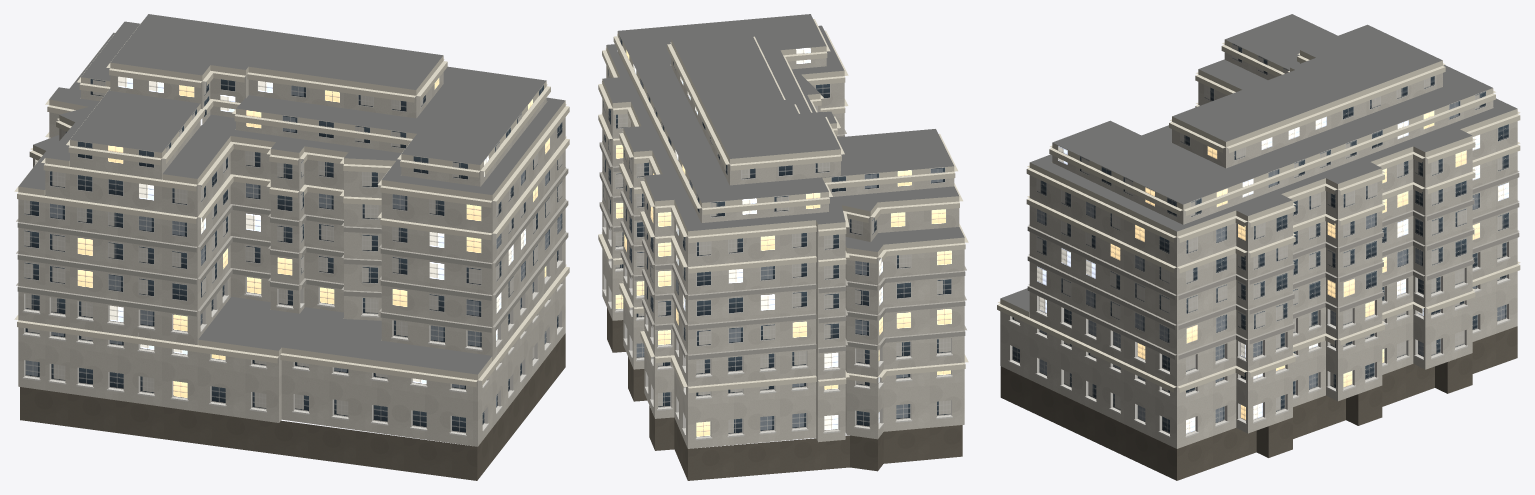
The model's file is z4L_thomas_slab.glb.
3 views of the same model, side by side, from view 1: azimuth 30°, elevation 25°; view 2: azimuth 150°, elevation 25°; view 3: azimuth 270°, elevation 25° (orthographic). The views are drawn at different scales.
Parts seen in each view (by area): view 1: z4L_thomas_slab; view 2: z4L_thomas_slab; view 3: z4L_thomas_slab.
Part boxes in pixels (x1,y1,x2,y2): z4L_thomas_slab: [14, 14, 569, 480]; z4L_thomas_slab: [598, 14, 968, 480]; z4L_thomas_slab: [997, 14, 1520, 480].
Bounding box in the file's own units: 43.23 × 27.74 × 44.57.
Materials: 3 (3 with a texture image).
